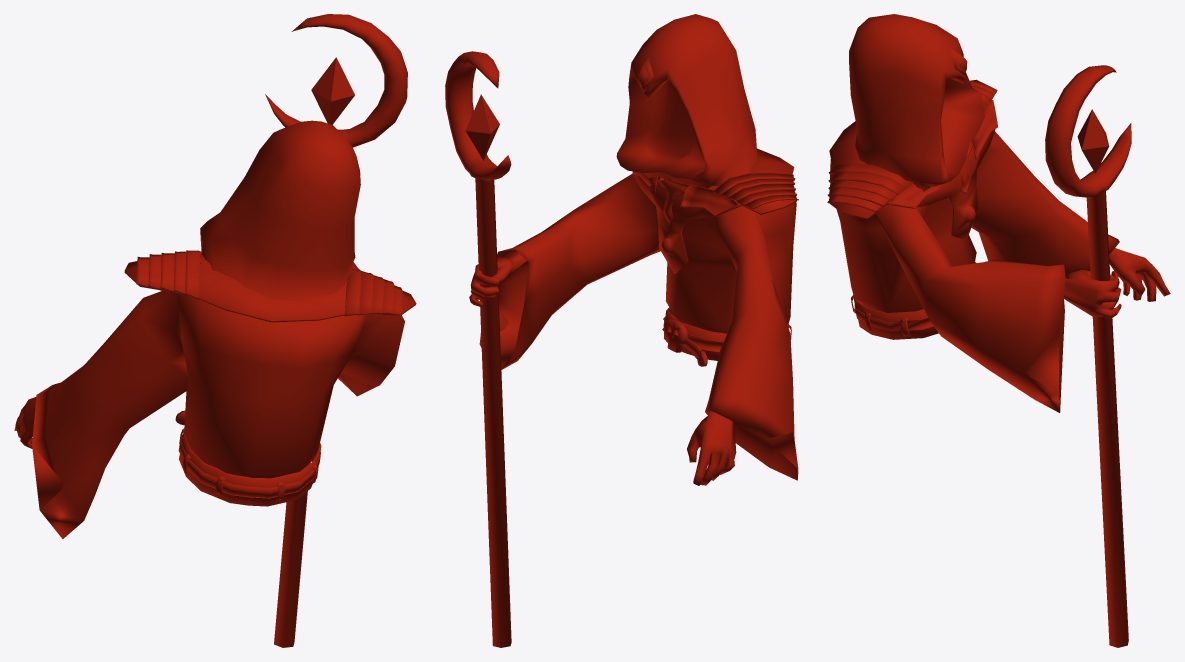
File: top_000064.obj
3 renders of one model, left to right at view 1: azimuth 30°, elevation 25°; view 2: azimuth 150°, elevation 25°; view 3: azimuth 270°, elevation 25°, orthographic. The views are drawn at different scales.
Visible parts, largest first — view 1: LowPoly_Warlock.000_Plane.005; view 2: LowPoly_Warlock.000_Plane.005; view 3: LowPoly_Warlock.000_Plane.005.
Boxes of the visible parts, <box> form: LowPoly_Warlock.000_Plane.005: <box>14,14,416,647</box>; LowPoly_Warlock.000_Plane.005: <box>445,14,798,647</box>; LowPoly_Warlock.000_Plane.005: <box>827,14,1170,647</box>.
Size of the model in its own units: 1.19 by 1.9 by 1.
